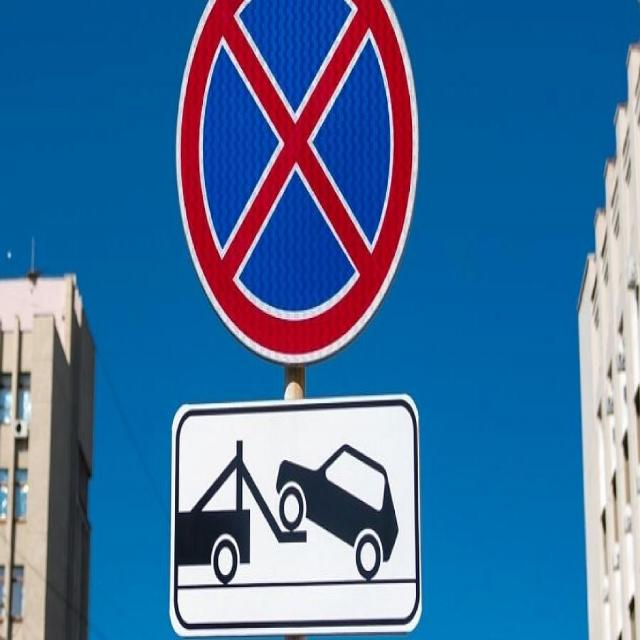no stopping: (174, 0, 425, 368)
